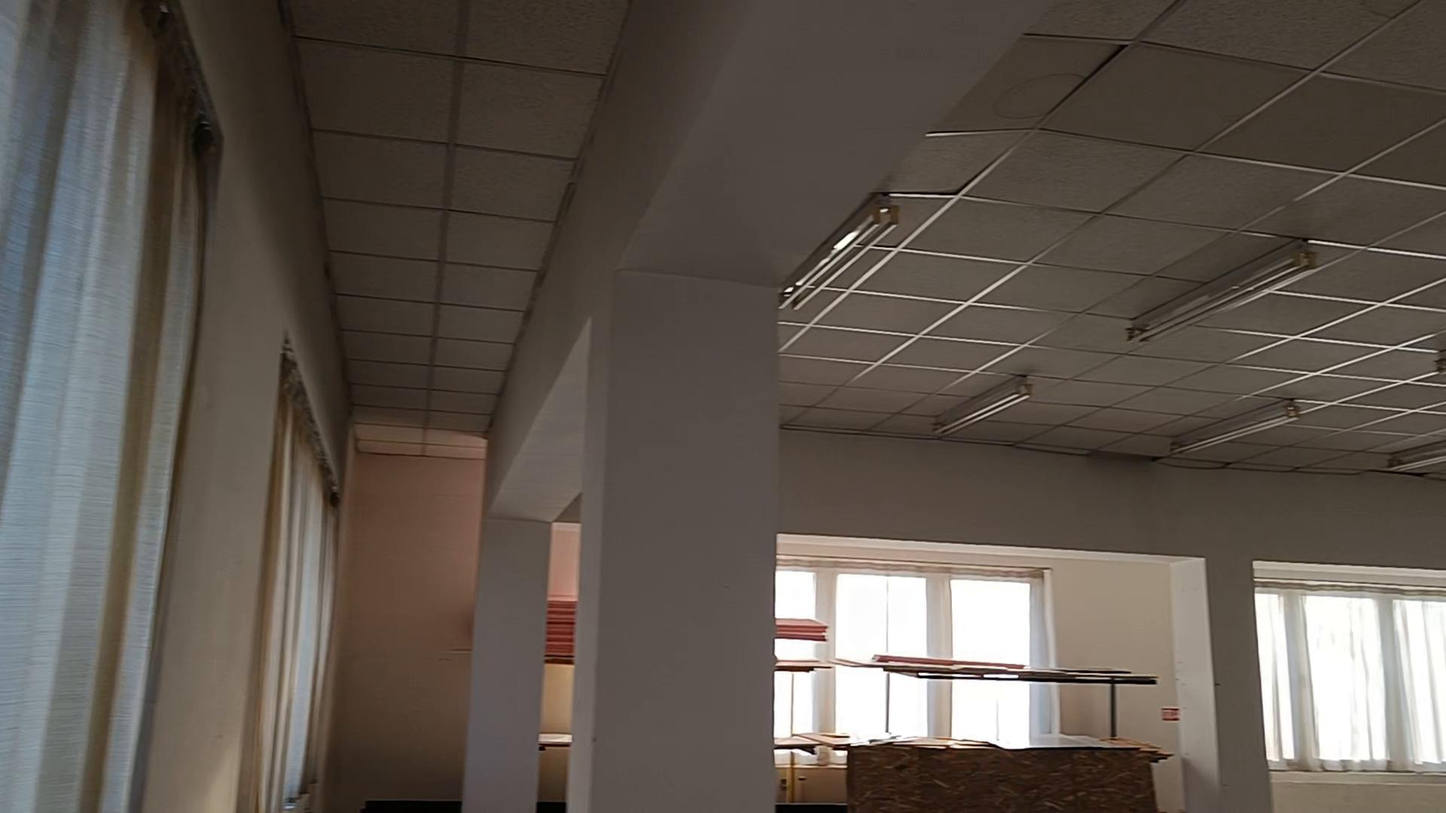ceiling: (785, 6, 1442, 476), (287, 0, 630, 431)
wall: (319, 0, 1445, 812), (141, 9, 344, 812)
